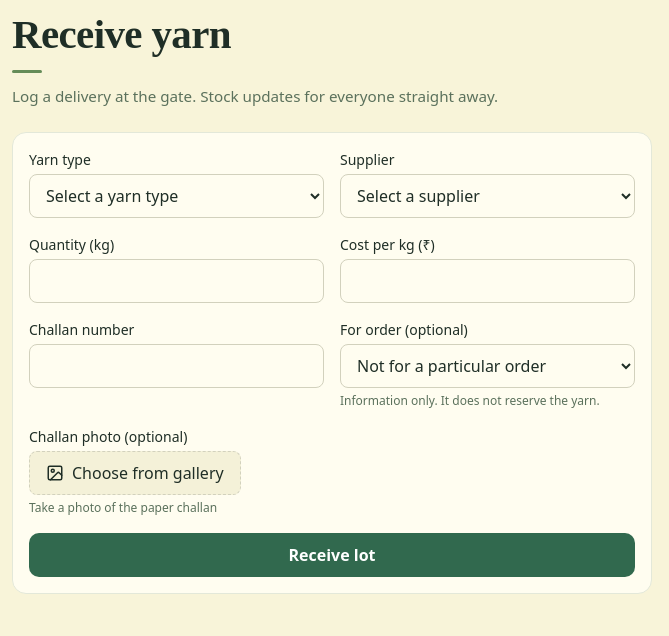
ReceiveYarn › rejects zero and negative quantities
The image size is (669, 636).
Select "30s cotton (raw white)" in the dropdown labelled "Yarn type" at (176, 196), box x1=29 y1=174 x2=324 y2=218
Select "Vardhman Yarns" in the dropdown labelled "Supplier" at (488, 196), box x1=340 y1=174 x2=635 y2=218
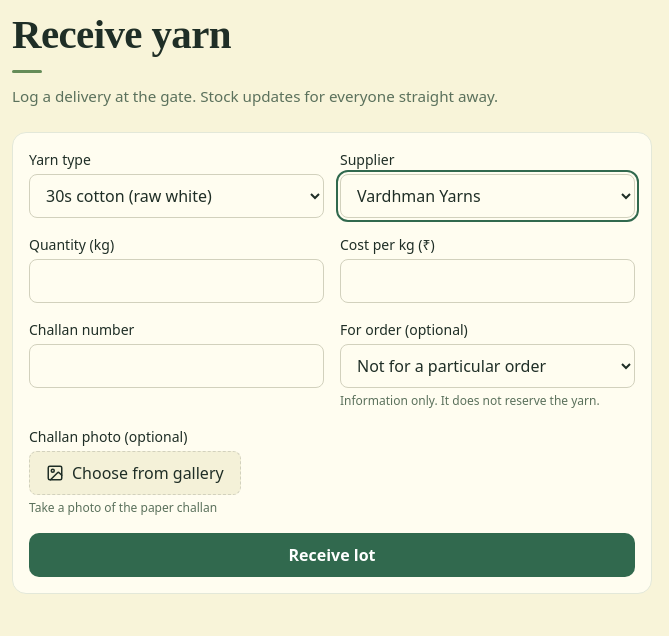
Type "800" into the number field labelled "Quantity (kg)" at (176, 281), box x1=29 y1=259 x2=324 y2=303
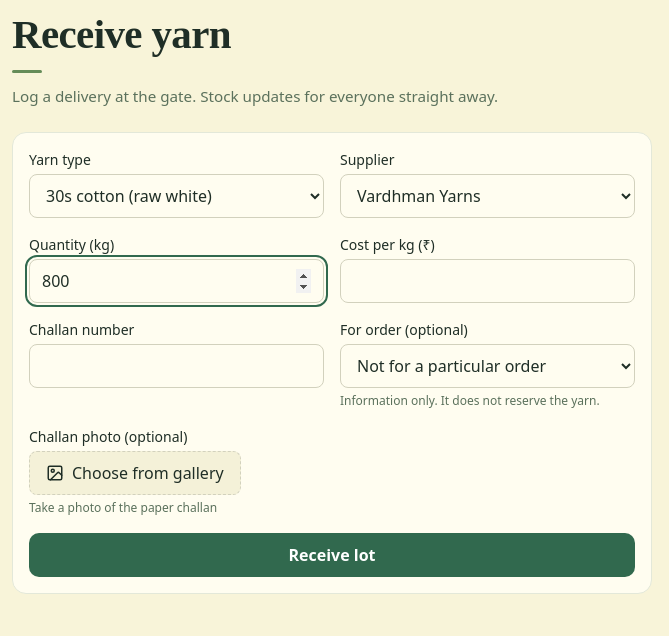
Type "250" into the number field labelled "Cost per kg (₹)" at (488, 281), box x1=340 y1=259 x2=635 y2=303
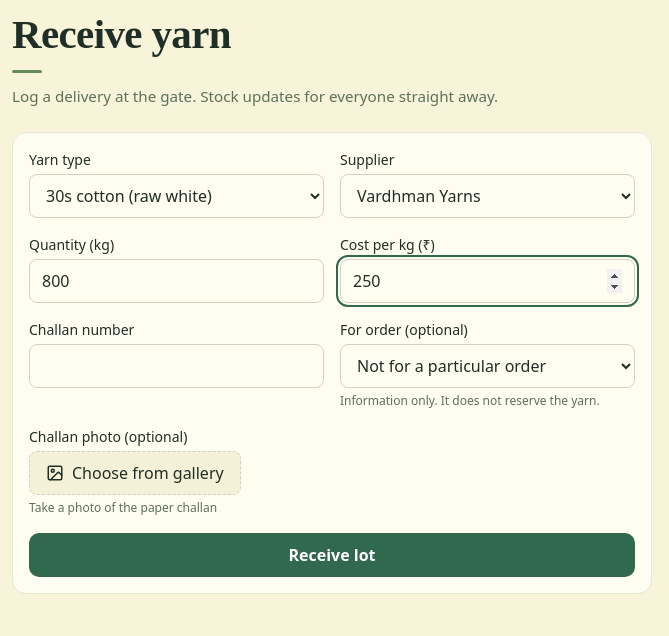
Type "CH-5521" into the field labelled "Challan number" at (176, 366), box x1=29 y1=344 x2=324 y2=388
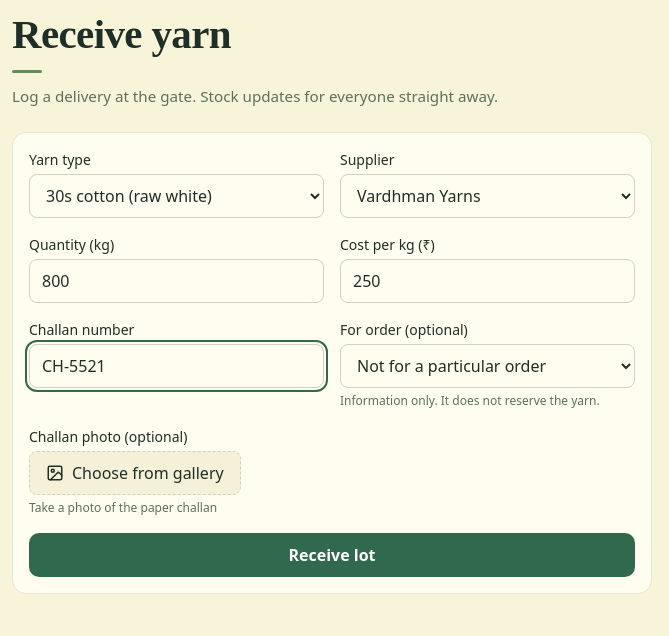
Replace the text in the number field labelled "Quantity (kg)" with "-5" at (176, 281), box x1=29 y1=259 x2=324 y2=303
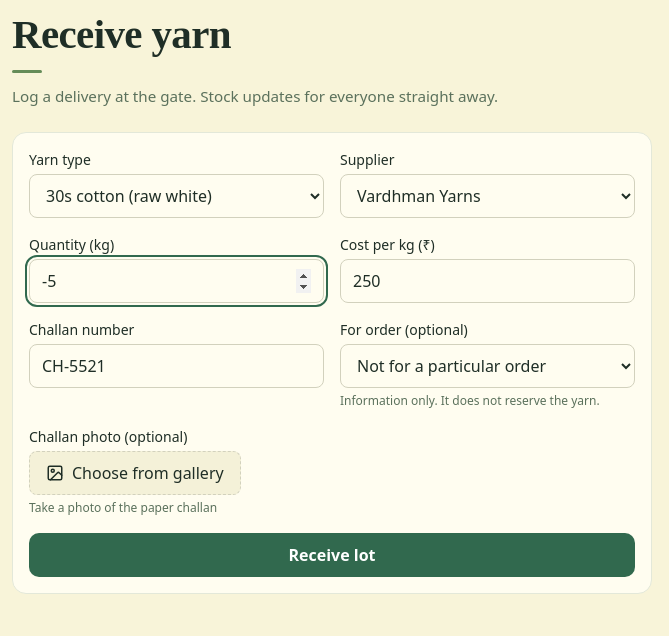
Click the button "Receive lot" at (332, 555), box x1=29 y1=533 x2=635 y2=577
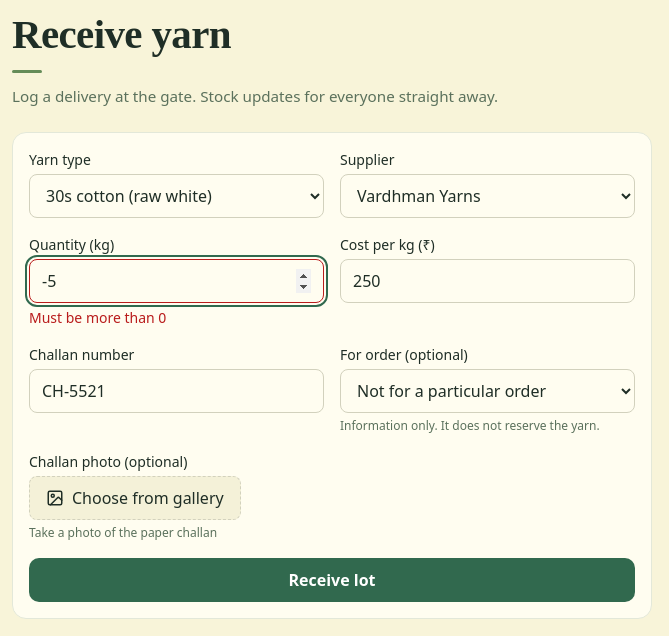
Now the text "Must be more than 0" is shown, box x1=29 y1=308 x2=166 y2=327
